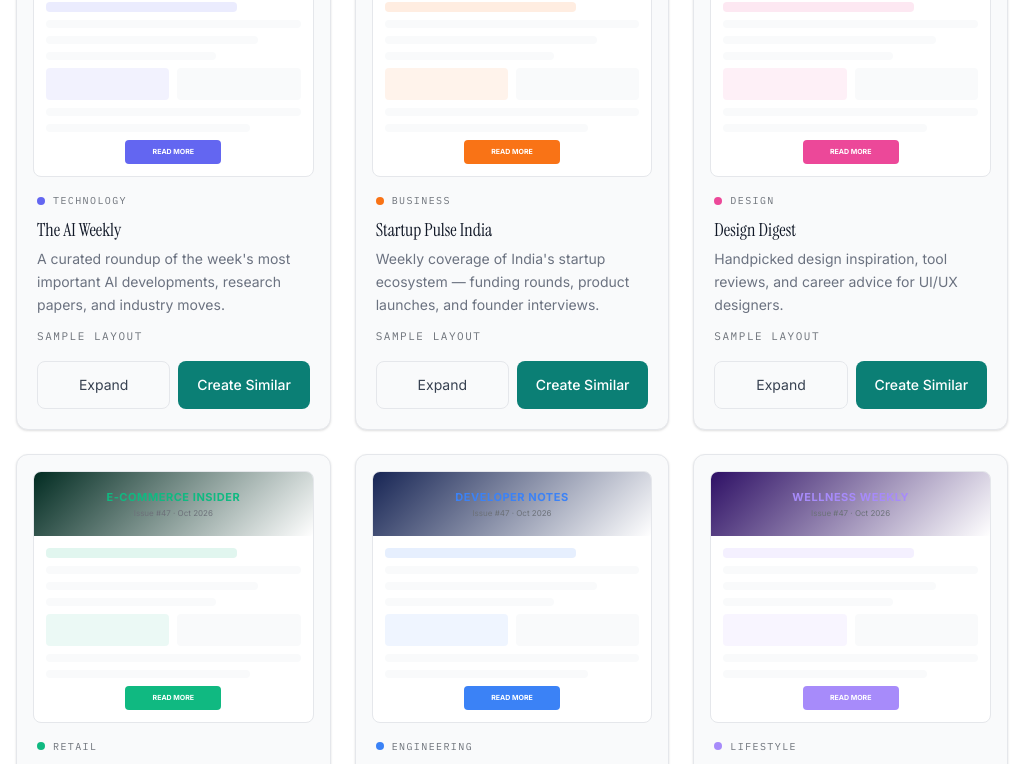
Test: NewsletterGallery › expands one sample, names it, and points the button at what it opened
(page scrolled)
Step 1. Click the button with aria-label "Expand the Design Digest sample" → click(781, 385), box [714,361,848,409]
(page scrolled)
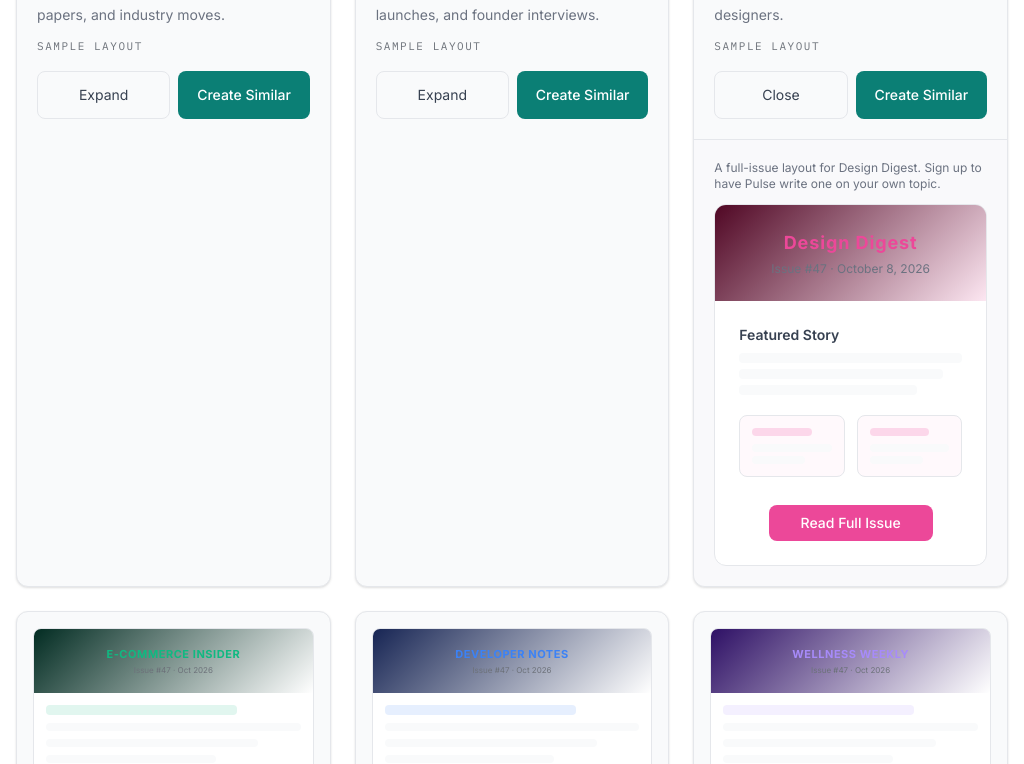
Expected: the button with aria-label "Close the Design Digest sample" is expanded, [714,71,848,119]
Expected: the text "Read Full Issue" is shown, [801,514,901,531]
